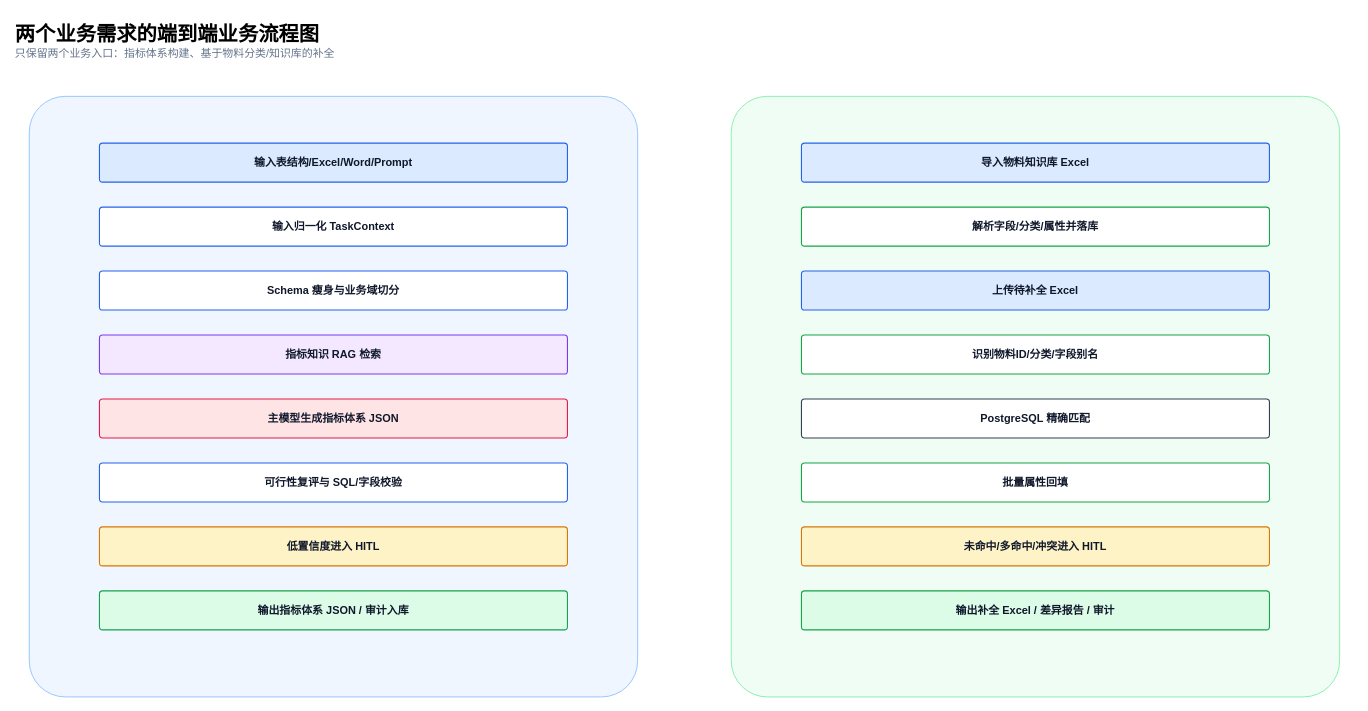
The diagram is 1368 pixels wide and 711 high, and some of its shapes have lost their labels. Each missing label, with the box of its shape:
指标体系构建 Agent 流程: (28, 95, 638, 697)
物料分类补全 Agent 流程: (730, 95, 1340, 697)
